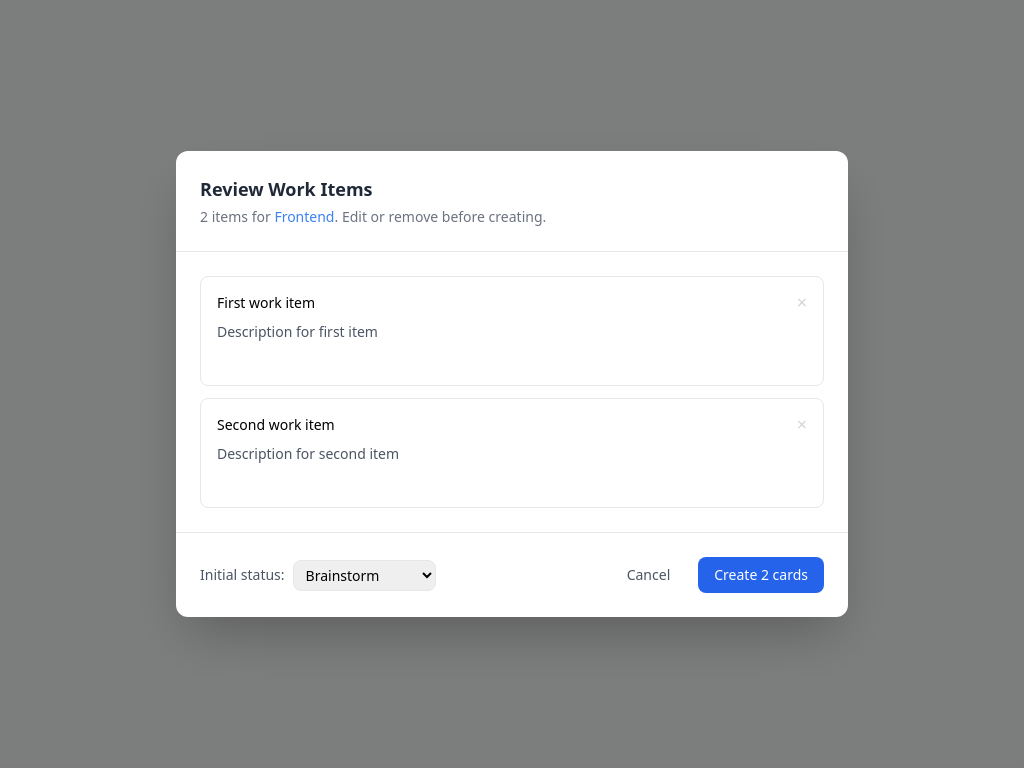
Scenario: WorkItemConfirm › clicking × on an item removes it
This screenshot has width=1024, height=768.
Step 1. Click the 1st button "×" → x=802, y=302, box left=797, top=293, right=807, bottom=311
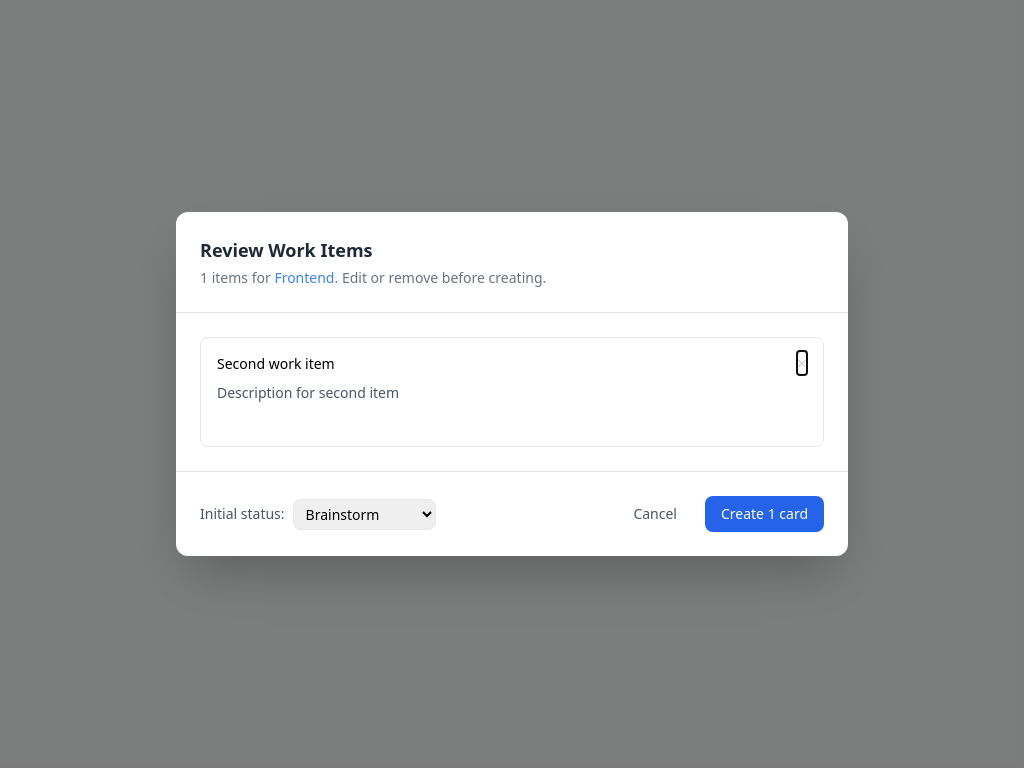
Check: the field showing "First work item" is not shown
Check: the field showing "Second work item" is shown, box left=217, top=354, right=789, bottom=375
